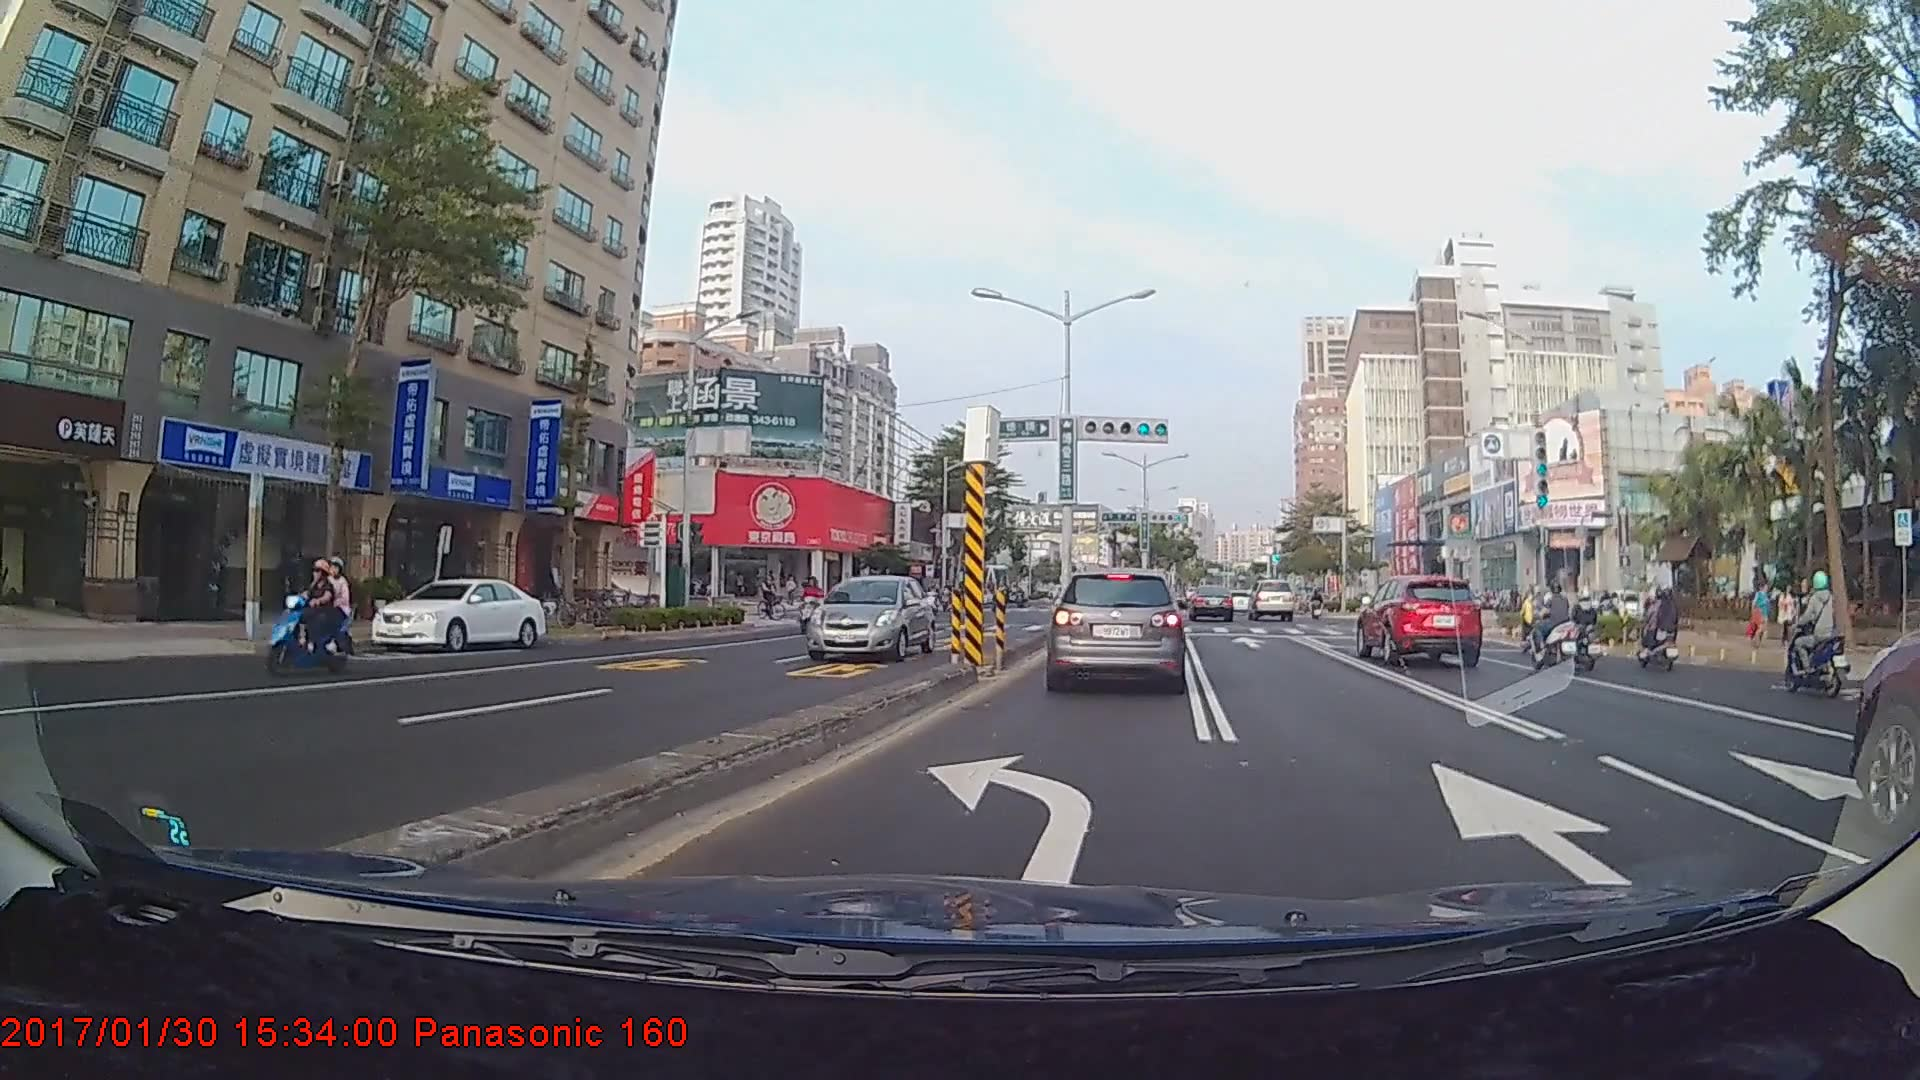pedestrian: (1746, 580, 1773, 652), (1778, 583, 1798, 647)
rider: (262, 559, 357, 687), (1789, 572, 1861, 695), (1528, 577, 1591, 672), (1632, 587, 1684, 672), (788, 570, 829, 640), (753, 574, 789, 623)
vehicle: (1044, 565, 1184, 695), (366, 576, 548, 653), (1357, 570, 1486, 665), (804, 572, 937, 659), (1248, 578, 1296, 622), (1188, 584, 1235, 623)
